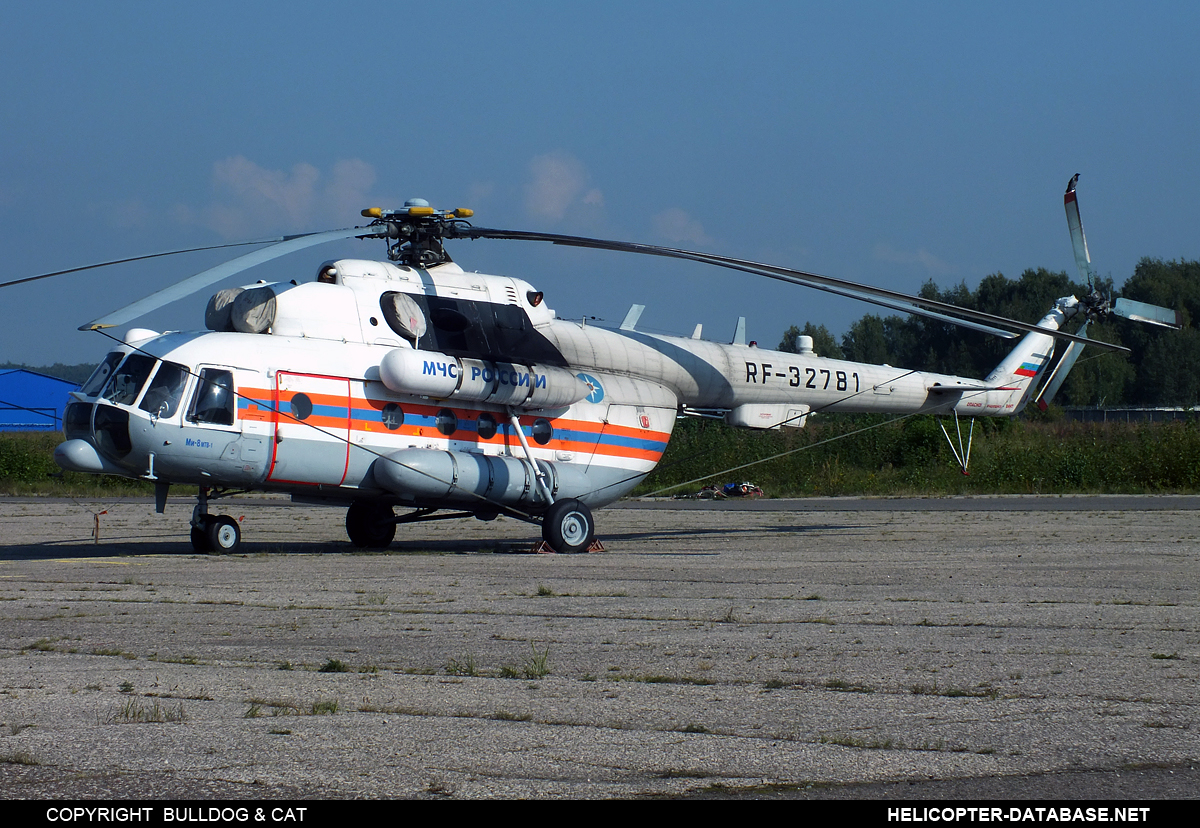number: (742, 360, 863, 392)
